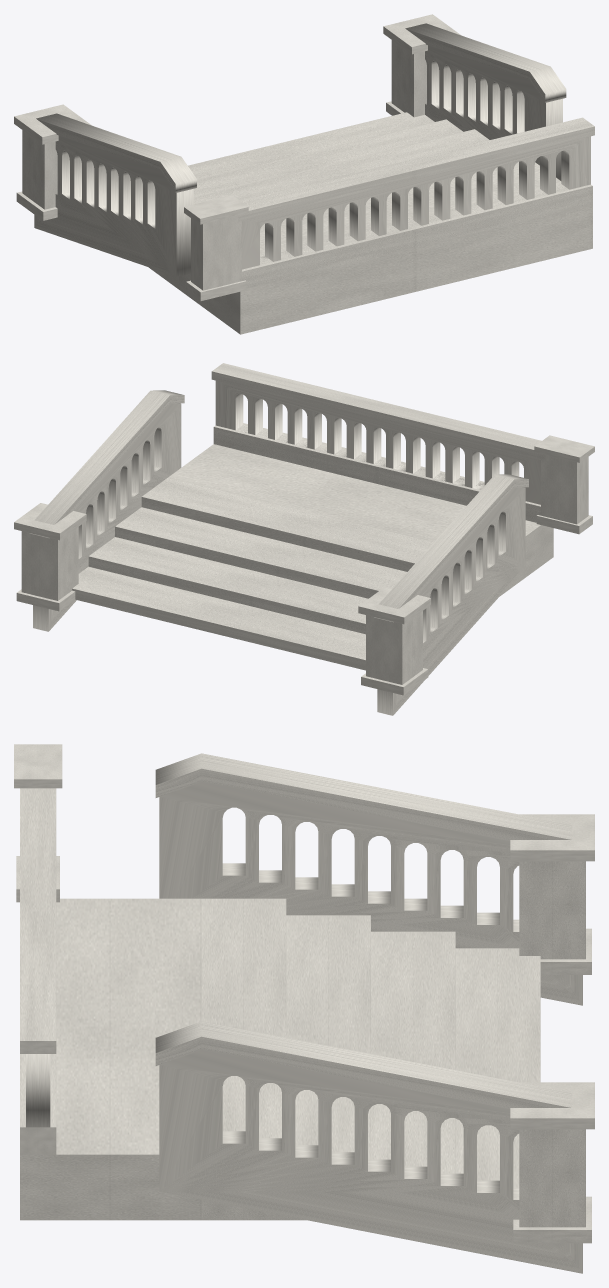
Rendered from sy-terrace-step-and-arcade.glb.
The picture shows the model from 3 angles, top to bottom: view 1: azimuth 30°, elevation 25°; view 2: azimuth 150°, elevation 25°; view 3: azimuth 270°, elevation 25°; orthographic projection. The views are drawn at different scales.
Visible parts, largest first — view 1: LandingSlab, ParapetPlate, CheekPlate_L, FlightSteps, ParapetBase, CheekPlate_R, ParapetCoping, ParapetPilaster, Pier_L, Pier_R, CheekCoping_R, CheekCoping_L; view 2: FlightSteps, LandingSlab, ParapetPlate, CheekPlate_L, CheekPlate_R, ParapetCoping, ParapetBase, Pier_L, Pier_R, ParapetPilaster, CheekCoping_R, CheekCoping_L; view 3: FlightSteps, CheekPlate_R, LandingSlab, CheekPlate_L, CheekCoping_L, CheekCoping_R, Pier_R, Pier_L, ParapetCoping, ParapetPilaster, ParapetBase, ParapetPlate.
Boxes of the visible parts, x1,y1,x2,y2 form: LandingSlab: (179, 162, 592, 334); ParapetPlate: (242, 136, 590, 269); CheekPlate_L: (34, 135, 193, 276); FlightSteps: (149, 112, 518, 289); ParapetBase: (240, 182, 592, 288); CheekPlate_R: (425, 45, 562, 180); ParapetCoping: (238, 117, 594, 221); ParapetPilaster: (184, 195, 248, 300); Pier_L: (14, 104, 91, 220); Pier_R: (383, 14, 460, 117); CheekCoping_R: (405, 23, 566, 102); CheekCoping_L: (36, 113, 196, 192); FlightSteps: (72, 477, 433, 670); LandingSlab: (168, 444, 553, 595); ParapetPlate: (215, 380, 540, 504); CheekPlate_L: (377, 487, 525, 715); CheekPlate_R: (33, 403, 181, 631); ParapetCoping: (211, 363, 544, 460); ParapetBase: (213, 423, 542, 522); Pier_L: (358, 587, 430, 695); Pier_R: (14, 503, 86, 611); ParapetPilaster: (534, 435, 594, 534); CheekCoping_R: (29, 390, 184, 538); CheekCoping_L: (374, 474, 528, 622); FlightSteps: (201, 898, 540, 1220); CheekPlate_R: (159, 1050, 582, 1273); LandingSlab: (20, 898, 201, 1220); CheekPlate_L: (159, 782, 582, 1005); CheekCoping_L: (155, 753, 572, 840); CheekCoping_R: (155, 1021, 572, 1108); Pier_R: (510, 1082, 594, 1243); Pier_L: (510, 814, 594, 974); ParapetCoping: (20, 788, 56, 1053); ParapetPilaster: (14, 744, 62, 902); ParapetBase: (20, 1054, 56, 1154); ParapetPlate: (26, 1054, 50, 1127).
Size of the model in its own units: 6.07 by 2.17 by 4.8.
Materials: 2 (2 with a texture image).
